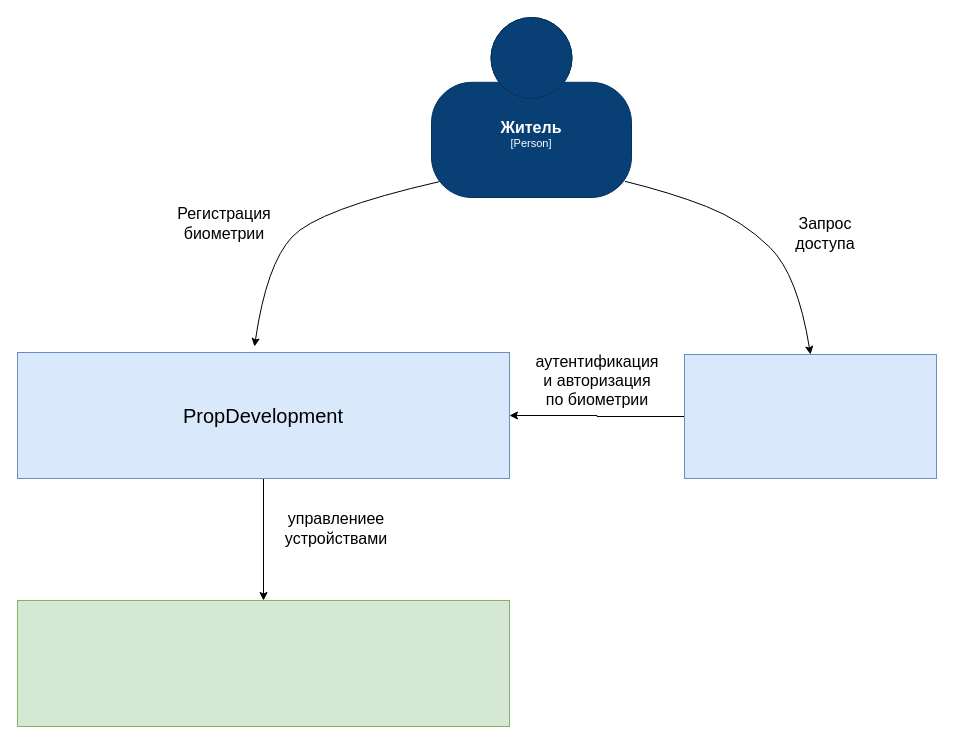
This 954x744 diagram has some shape labels left out. Each missing label, with the box of its shape:
Внешние сервисы "Умный дом": (16, 600, 510, 726)
Домофон и Шлагбаум: (684, 354, 936, 478)
